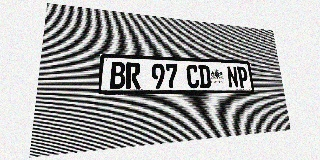7: (165, 64, 179, 88)
9: (151, 63, 165, 89)
B: (110, 62, 125, 89)
C: (186, 65, 199, 88)
D: (198, 65, 211, 88)
N: (226, 66, 239, 88)
P: (237, 66, 249, 88)
R: (126, 62, 140, 89)
